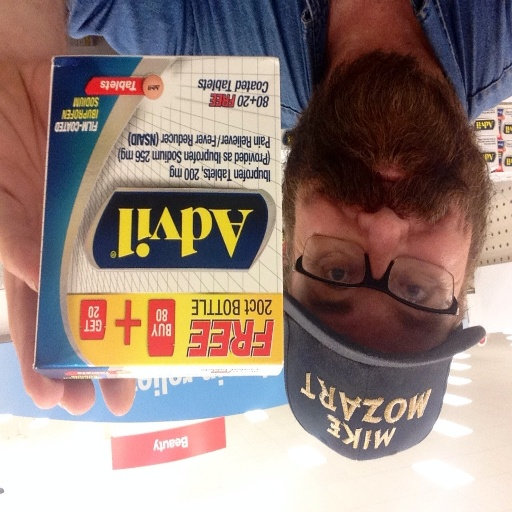hand: (0, 56, 139, 419)
